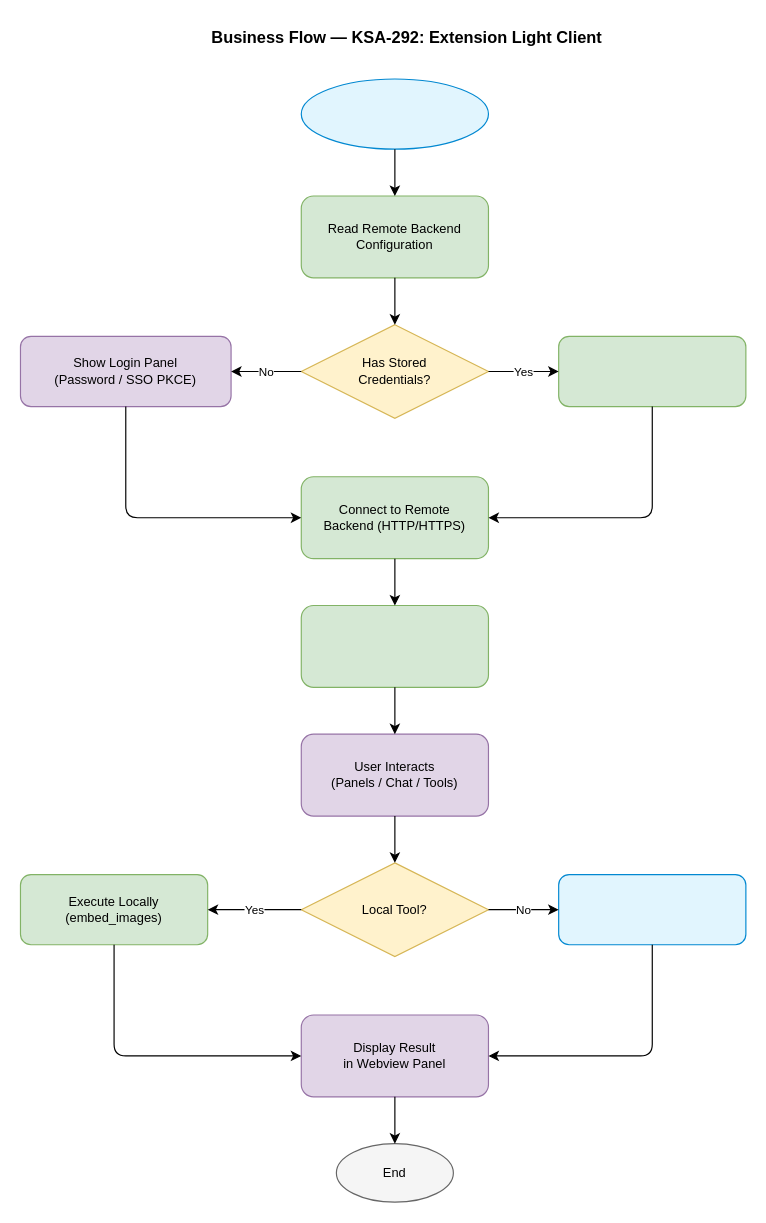
This 766x1223 diagram has some shape labels left out. Here are the shapes that lost their labels. From the top down, the centre of each, then its label:
At point (394, 113): "Extension Activates".
At point (652, 371): "Refresh Token Automatically".
At point (394, 645): "Sync Workspace Structure to Backend".
At point (652, 909): "Forward to Remote Backend API".
